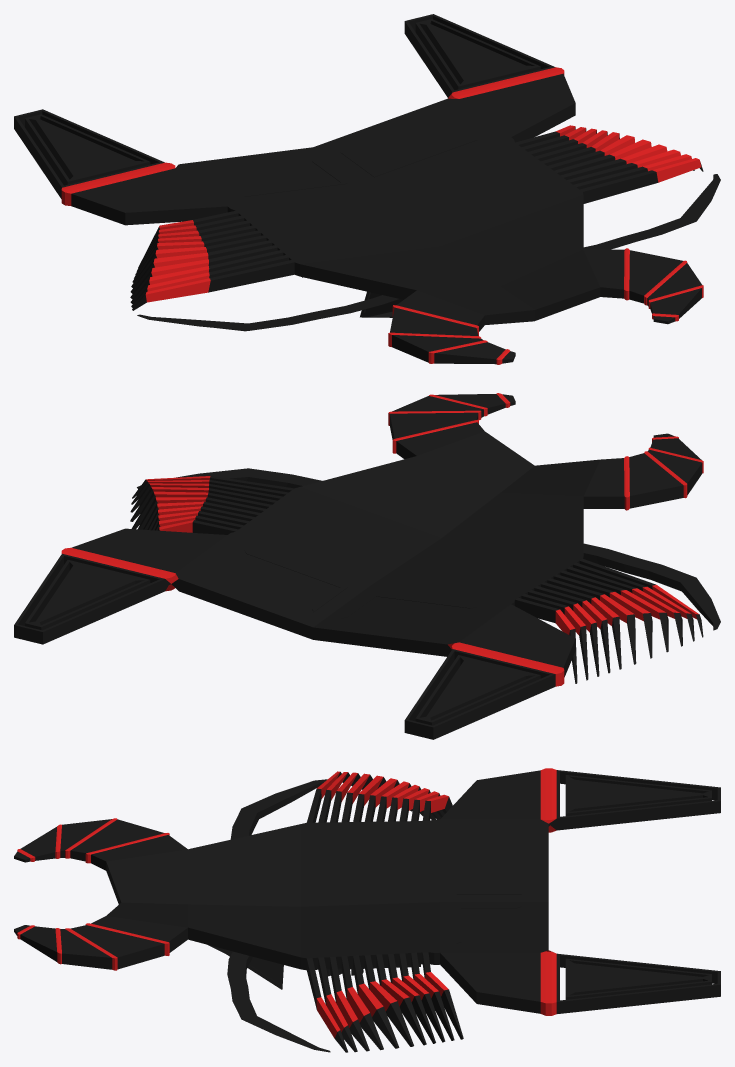
Rendered from mother ship 1.fbx.
3 renders of one model, top to bottom at view 1: azimuth 30°, elevation 25°; view 2: azimuth 150°, elevation 25°; view 3: azimuth 270°, elevation 25°, orthographic. The views are drawn at different scales.
Visible parts, largest first — view 1: Mother ship 1; view 2: Mother ship 1; view 3: Mother ship 1.
Boxes of the visible parts, bbox=[...] form: Mother ship 1: bbox=[14, 14, 720, 364]; Mother ship 1: bbox=[14, 393, 720, 739]; Mother ship 1: bbox=[14, 768, 720, 1052].
Bounding box in the file's own units: 9763 × 1164 × 10678.
